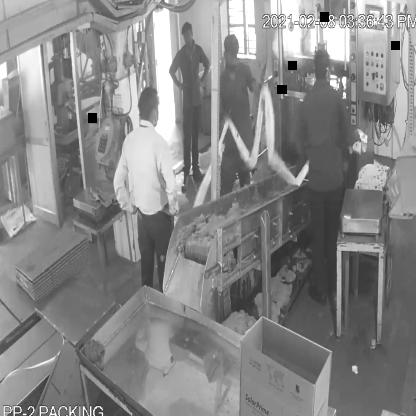no_glove: (115, 150, 142, 219), (157, 143, 178, 215), (164, 44, 187, 100), (198, 44, 210, 89)
